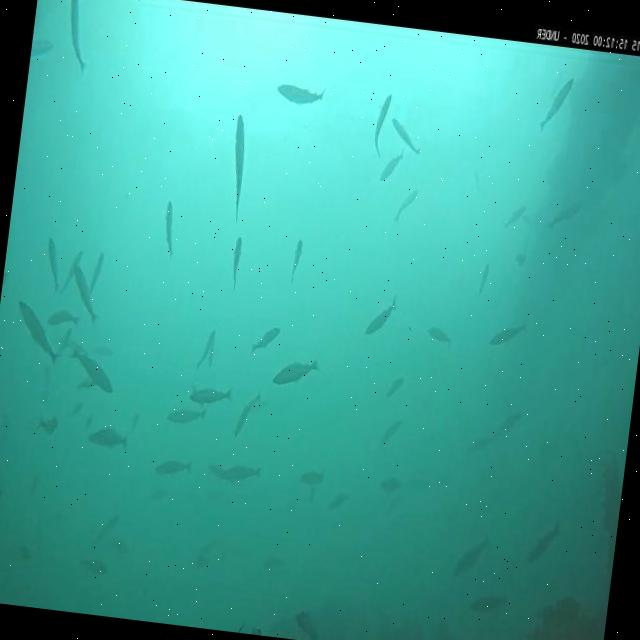fish: (12, 300, 66, 365), (223, 111, 251, 222), (61, 0, 96, 78), (66, 348, 118, 396), (537, 74, 574, 134), (68, 263, 102, 324), (271, 352, 320, 390), (525, 518, 561, 568), (453, 536, 489, 580), (274, 77, 325, 108), (364, 292, 396, 340), (371, 90, 393, 158), (388, 116, 422, 156), (234, 390, 262, 437), (42, 238, 64, 295), (86, 424, 130, 452), (190, 382, 232, 409), (219, 460, 261, 487), (160, 199, 179, 258), (488, 321, 524, 352), (60, 248, 83, 296), (546, 199, 580, 231), (392, 188, 418, 227), (44, 304, 80, 332), (155, 454, 192, 481), (470, 590, 507, 616), (250, 323, 280, 354), (228, 234, 244, 290), (378, 148, 402, 183), (426, 322, 454, 351), (87, 250, 104, 296), (196, 328, 214, 370), (290, 236, 305, 282), (78, 554, 109, 576), (328, 487, 351, 515), (506, 200, 527, 230), (169, 406, 206, 423), (298, 466, 324, 489), (30, 33, 54, 57), (36, 414, 58, 436), (478, 261, 492, 292)
